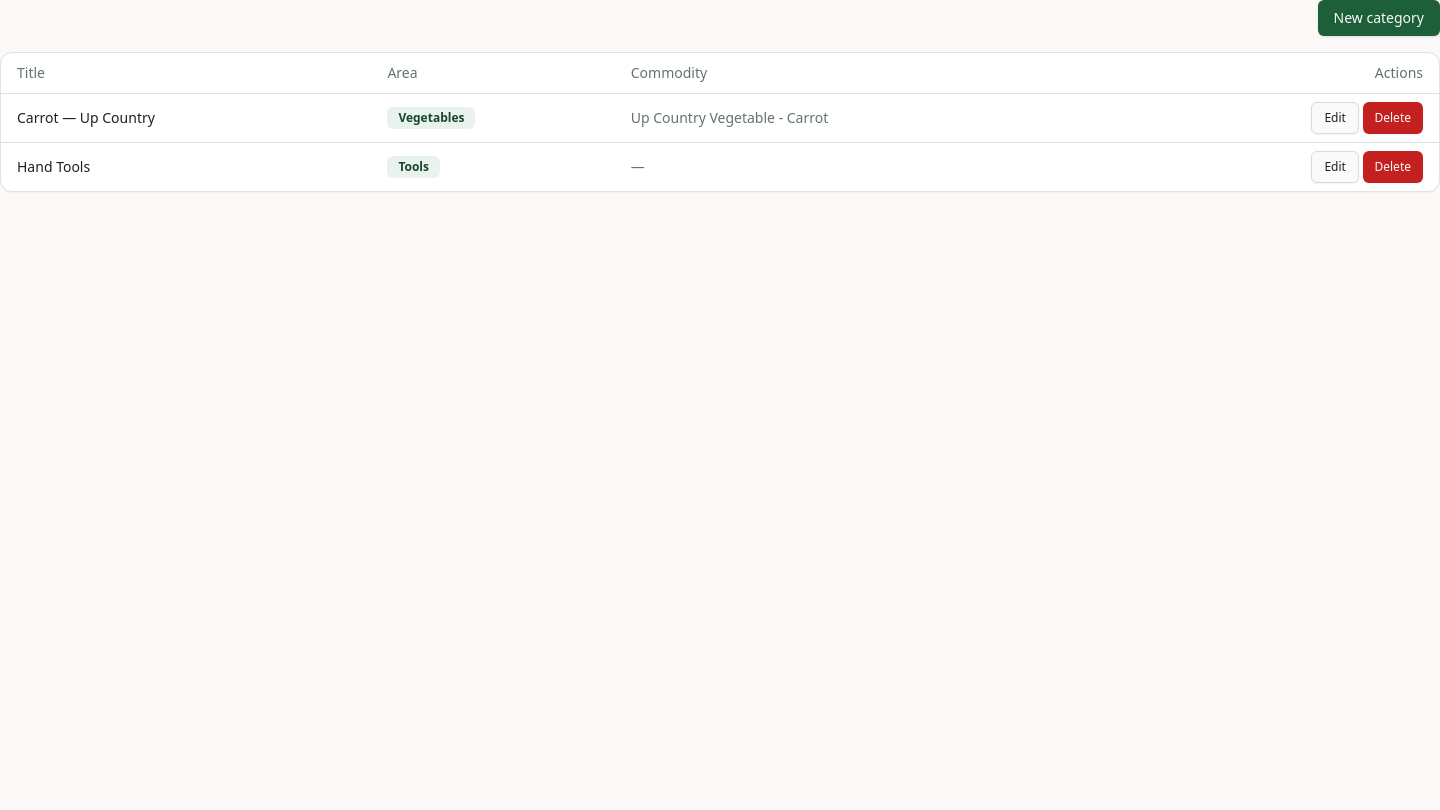
Scenario: CategoriesTable › opens the edit dialog prefilled with the category's values
Click the button "Edit" in the row of "Carrot — Up Country". click: (1335, 118)
box: x1=1311 y1=102 x2=1359 y2=134
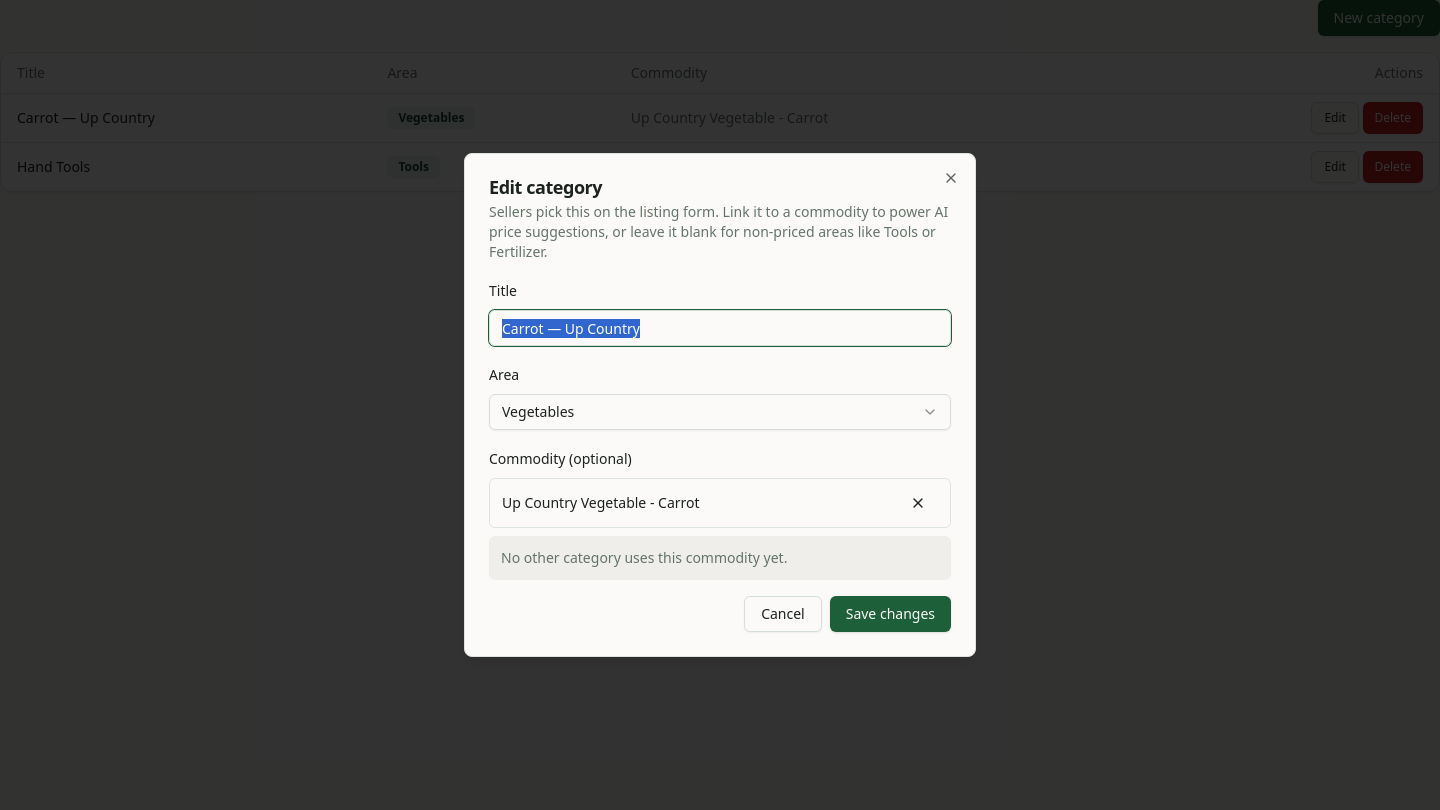
Result: the field showing "Carrot — Up Country" is shown at x1=489 y1=310 x2=951 y2=346
Result: the text "Up Country Vegetable - Carrot" is shown at x1=502 y1=493 x2=700 y2=513
Result: the button "Save changes" is shown at x1=830 y1=596 x2=951 y2=632
